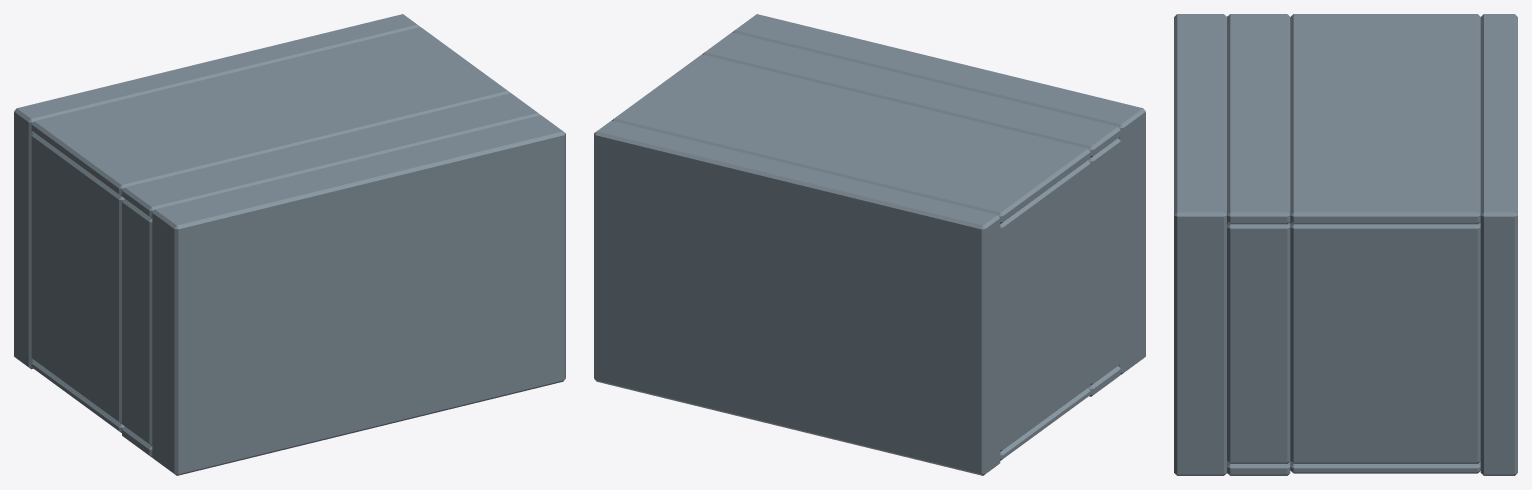
The model's file is cleaned.glb.
The picture shows the model from 3 angles, left to right: view 1: azimuth 30°, elevation 25°; view 2: azimuth 150°, elevation 25°; view 3: azimuth 270°, elevation 25°; orthographic projection. The views are drawn at different scales.
Visible parts, largest first — view 1: ContainerLid, ContainerBody; view 2: ContainerBody, ContainerLid; view 3: ContainerBody, ContainerLid.
Part boxes in pixels (left/top/right/bottom): ContainerLid: left=122, top=93, right=565, bottom=475; ContainerBody: left=14, top=14, right=510, bottom=432; ContainerBody: left=594, top=54, right=1090, bottom=475; ContainerLid: left=702, top=14, right=1145, bottom=396; ContainerBody: left=1290, top=14, right=1517, bottom=475; ContainerLid: left=1174, top=14, right=1290, bottom=475.
Bounding box in the file's own units: 0.9 × 0.55 × 0.65.
